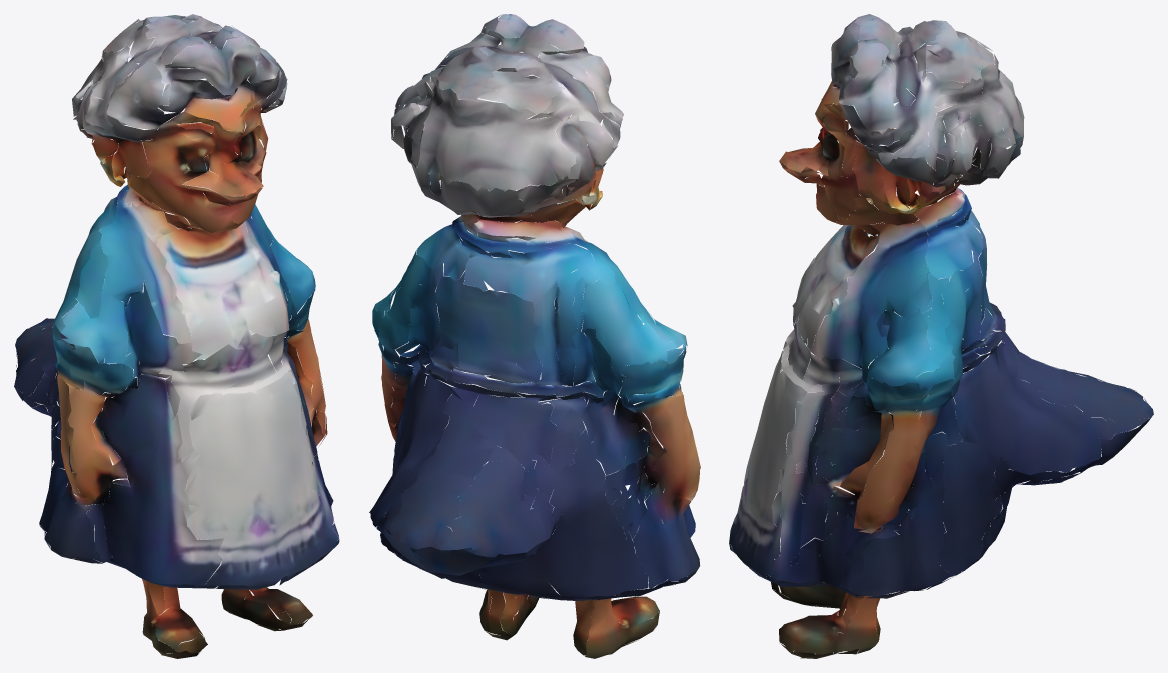
File: abuela-lod1.glb
3 renders of one model, left to right at view 1: azimuth 30°, elevation 25°; view 2: azimuth 150°, elevation 25°; view 3: azimuth 270°, elevation 25°, orthographic. The views are drawn at different scales.
Visible parts, largest first — view 1: geometry_0; view 2: geometry_0; view 3: geometry_0.
Boxes of the visible parts, x1,y1,x2,y2 form: geometry_0: (14,14,339,658); geometry_0: (369,14,700,658); geometry_0: (729,14,1153,658).
Size of the model in its own units: 1.31 by 2.67 by 1.7.
Materials: 1 (1 with a texture image).
